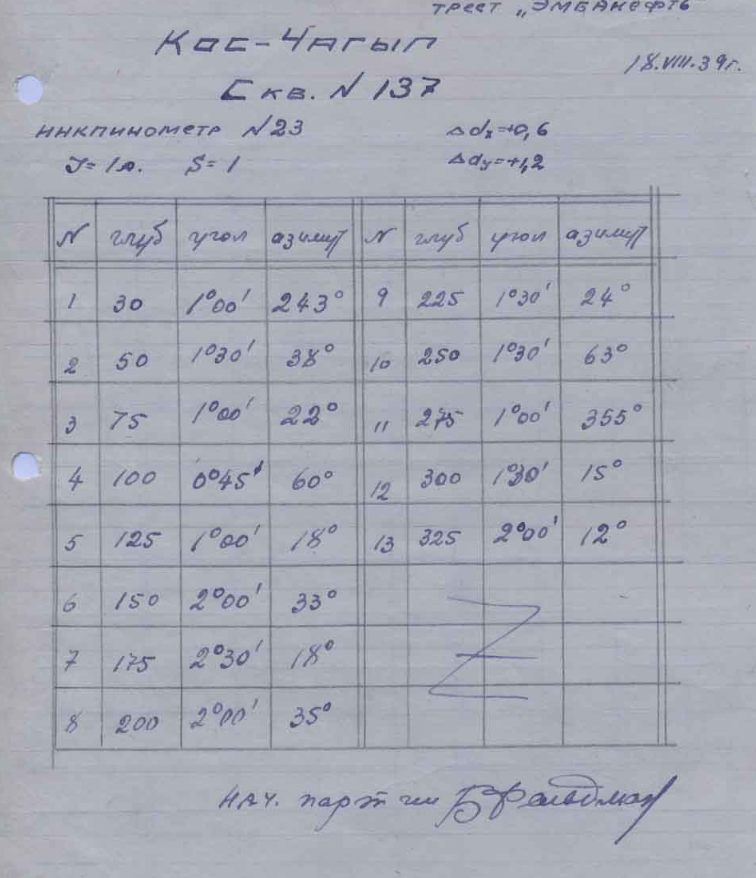Bordered: (43, 195, 673, 753)
